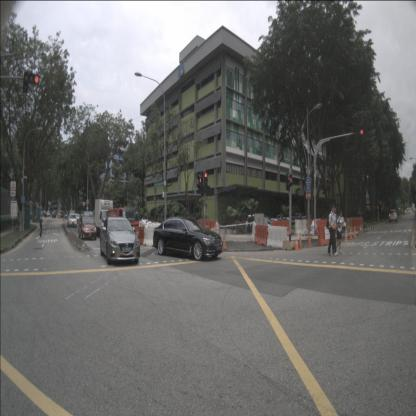human-pedestrian-adult: (327, 206, 337, 256), (335, 210, 343, 254), (331, 207, 337, 255), (39, 215, 43, 237)
movable_object-barrier: (266, 226, 288, 249), (316, 226, 337, 247), (271, 220, 292, 238), (197, 219, 218, 236), (144, 227, 160, 248), (254, 225, 270, 246), (132, 226, 148, 246), (316, 219, 334, 236), (294, 219, 308, 236), (349, 216, 363, 231), (210, 227, 220, 247), (305, 219, 317, 233), (251, 221, 258, 243), (215, 221, 220, 239)
movable_object-trafficcone: (222, 232, 228, 249), (294, 234, 300, 250), (298, 234, 303, 249), (308, 234, 312, 249), (344, 228, 348, 242), (348, 227, 352, 239), (357, 225, 361, 236), (359, 224, 363, 235), (353, 226, 356, 238)
vehicle-car: (153, 216, 223, 261), (100, 216, 140, 266), (246, 214, 276, 233), (78, 216, 96, 240), (81, 211, 95, 228), (67, 213, 78, 227), (388, 209, 398, 222), (75, 213, 80, 221), (52, 211, 56, 219)
vehicle-truck: (108, 207, 139, 246), (95, 198, 113, 238)
